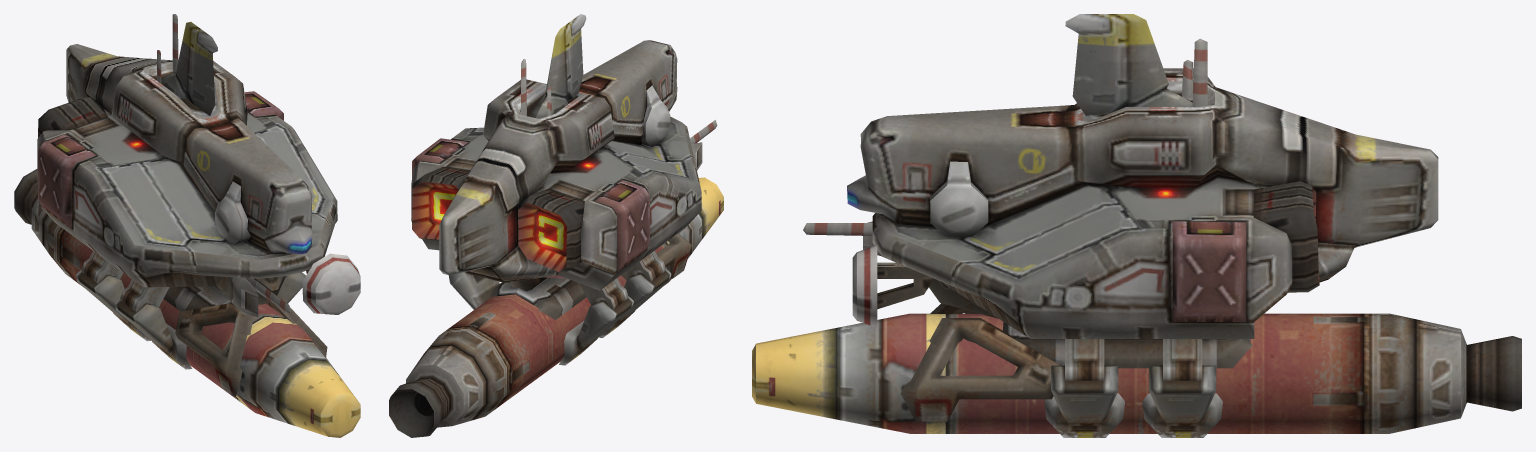
Rendered from p1_sc_torp_01_t1.glb.
The picture shows the model from 3 angles, left to right: view 1: azimuth 30°, elevation 25°; view 2: azimuth 150°, elevation 25°; view 3: azimuth 270°, elevation 25°; orthographic projection. The views are drawn at different scales.
Parts seen in each view (by area): view 1: p1_torpedo_bomber_01_main_LOD0; view 2: p1_torpedo_bomber_01_main_LOD0; view 3: p1_torpedo_bomber_01_main_LOD0.
Part boxes in pixels (box(x1,y1,x2,y2)): p1_torpedo_bomber_01_main_LOD0: box(14, 14, 360, 437); p1_torpedo_bomber_01_main_LOD0: box(389, 14, 723, 437); p1_torpedo_bomber_01_main_LOD0: box(752, 14, 1521, 437).
Size of what is drawn, in the model's own units: 0.2952 by 0.4186 by 0.7031.
Materials: 1 (1 with a texture image).
